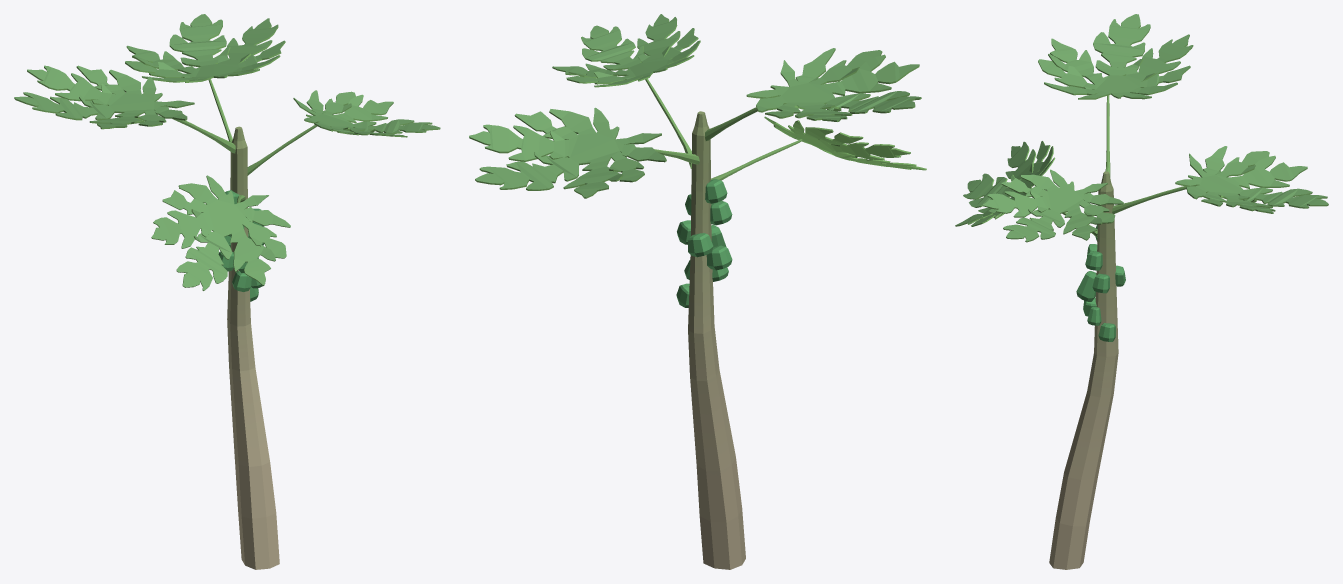
Rendered from papaya_tree.fbx.
3 renders of one model, left to right at view 1: azimuth 30°, elevation 25°; view 2: azimuth 150°, elevation 25°; view 3: azimuth 270°, elevation 25°, orthographic. The views are drawn at different scales.
Parts seen in each view (by area): view 1: Plane; view 2: Plane; view 3: Plane.
Boxes of the visible parts, x1,y1,x2,y2 form: Plane: [14, 14, 440, 569]; Plane: [469, 14, 926, 569]; Plane: [955, 14, 1328, 569].
Bounding box in the file's own units: 217 × 281 × 210.
